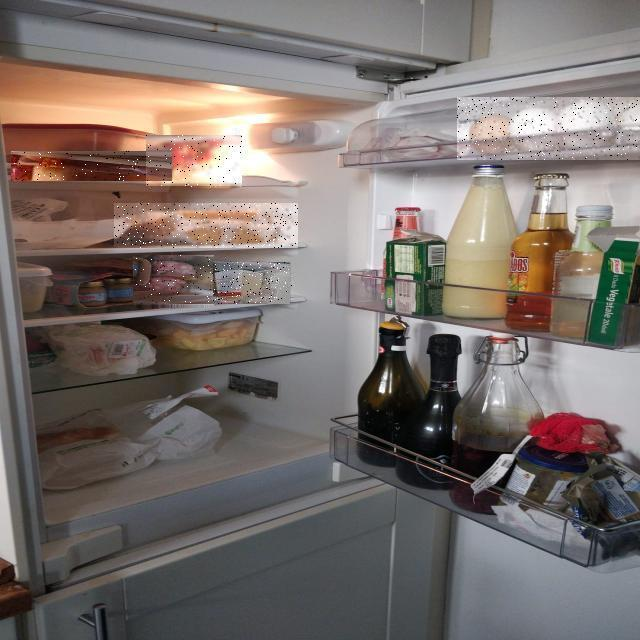Bacon: (133, 256, 214, 308)
Cheese: (114, 203, 298, 248), (214, 262, 294, 304)
Eggs: (457, 97, 640, 160)
Ham: (11, 151, 172, 181)
Tomatoes: (146, 136, 242, 188)
